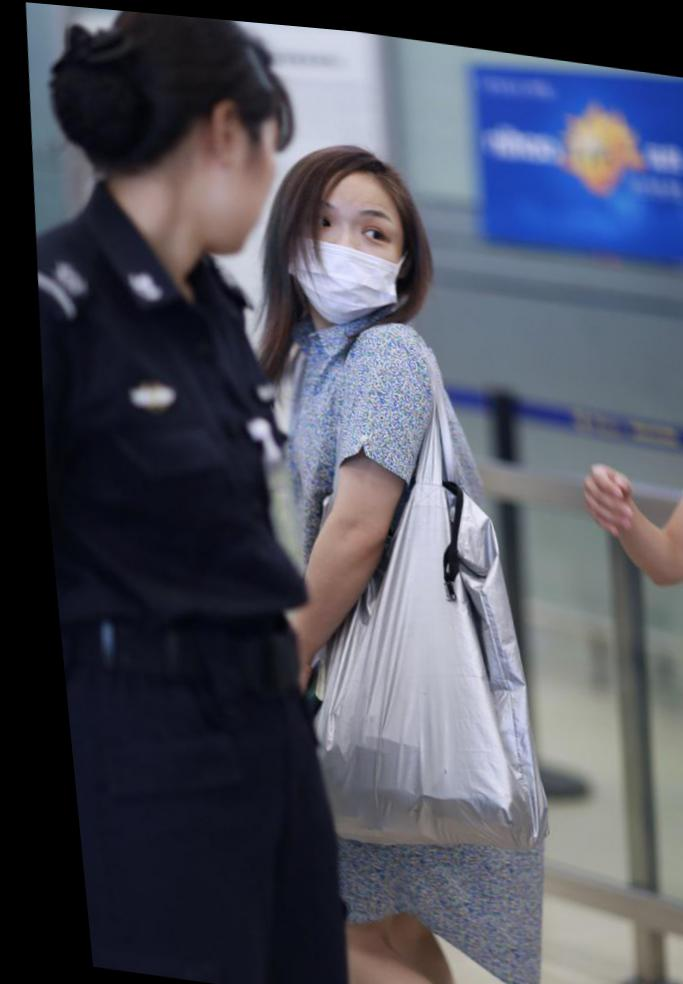NONE: (200, 115, 289, 264)
OK: (279, 175, 408, 328)
